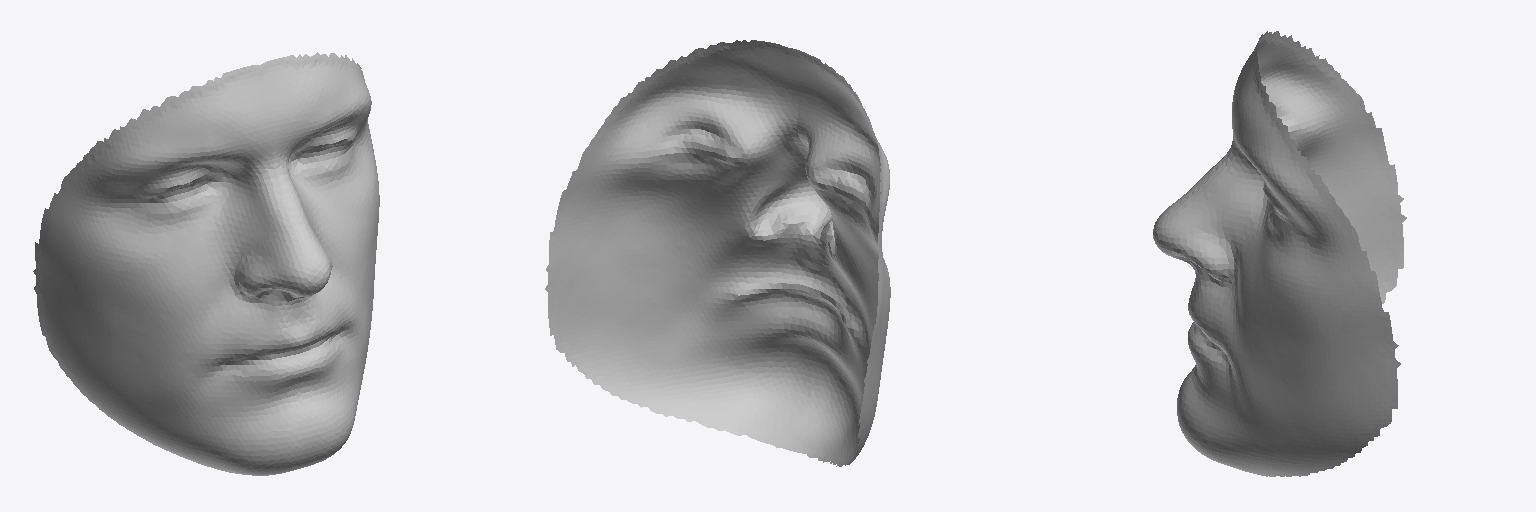
The model's file is SIMPOP_03.obj.
3 views of the same model, side by side, from view 1: azimuth 30°, elevation 25°; view 2: azimuth 150°, elevation 25°; view 3: azimuth 270°, elevation 25° (orthographic).
Parts seen in each view (by area): view 1: SIMPOP_03; view 2: SIMPOP_03; view 3: SIMPOP_03.
Part boxes in pixels (left/top/right/bottom): SIMPOP_03: left=33, top=52, right=379, bottom=475; SIMPOP_03: left=545, top=40, right=890, bottom=466; SIMPOP_03: left=1153, top=31, right=1406, bottom=476.
Size of the model in its own units: 145 by 173 by 97.92.